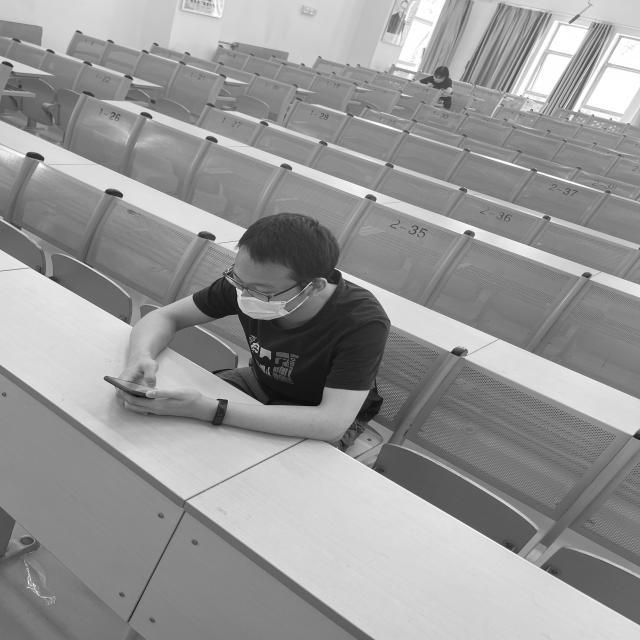phone: (128, 213, 385, 444)
